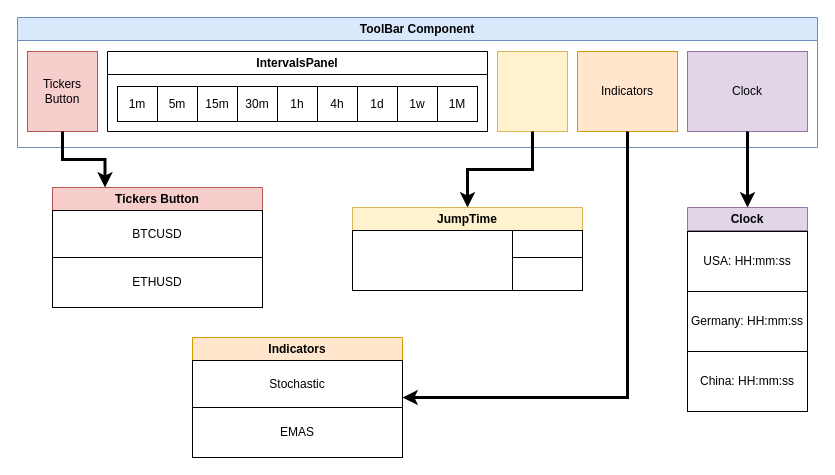
Image size: 835x475. Some labels were removed from this diagram. The centre of each missing label's shape, as x and y in pixels:
"Clean Button" goes at pixel 547 273.
"JumpTime Button" goes at pixel 532 91.
"OK Button" goes at pixel 547 244.
"YYYY/MM/HH:mm:ss" goes at pixel 432 260.
